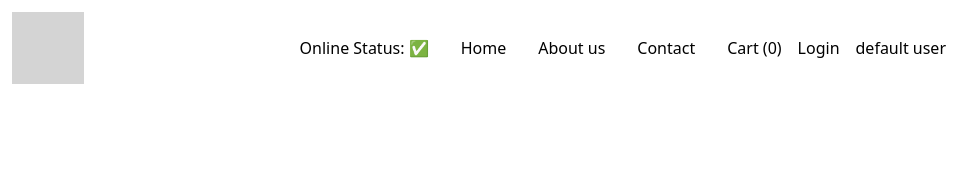
Header Component › Header should load and on click of login text should change to logout
Click the button "Login" at {"x": 819, "y": 48}, box [798, 36, 840, 60]
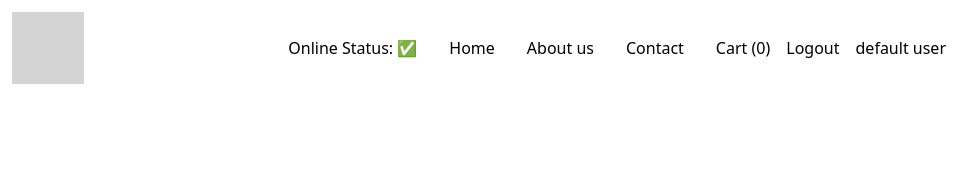
Check: the button "Logout" is shown, box [786, 36, 840, 60]
